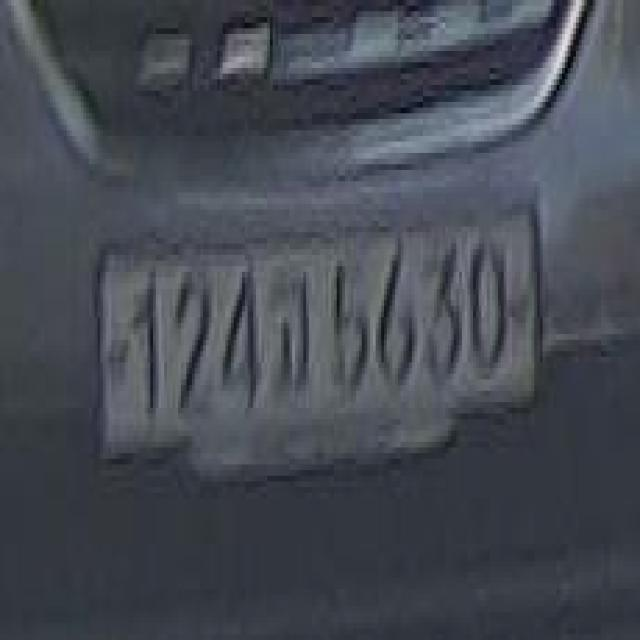illegal_plate: (93, 206, 544, 485)
